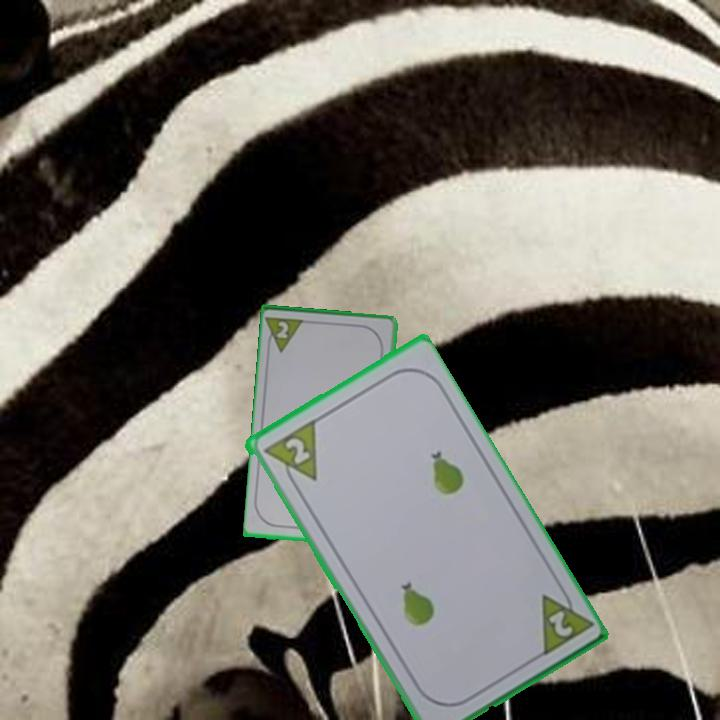2p: (259, 417, 320, 494), (534, 581, 593, 660), (274, 317, 292, 341)
